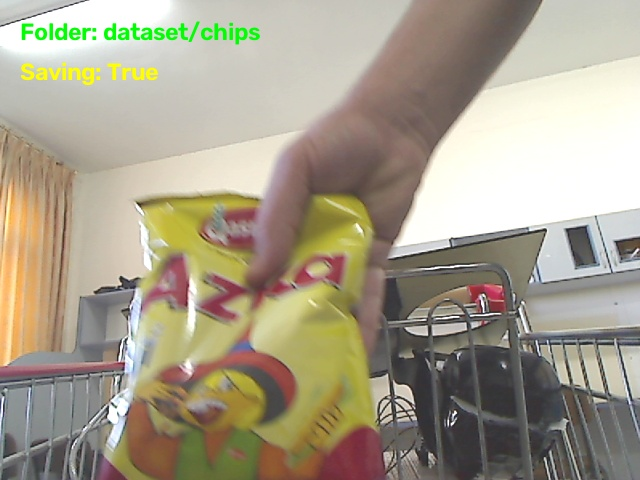chips: (99, 194, 383, 479)
